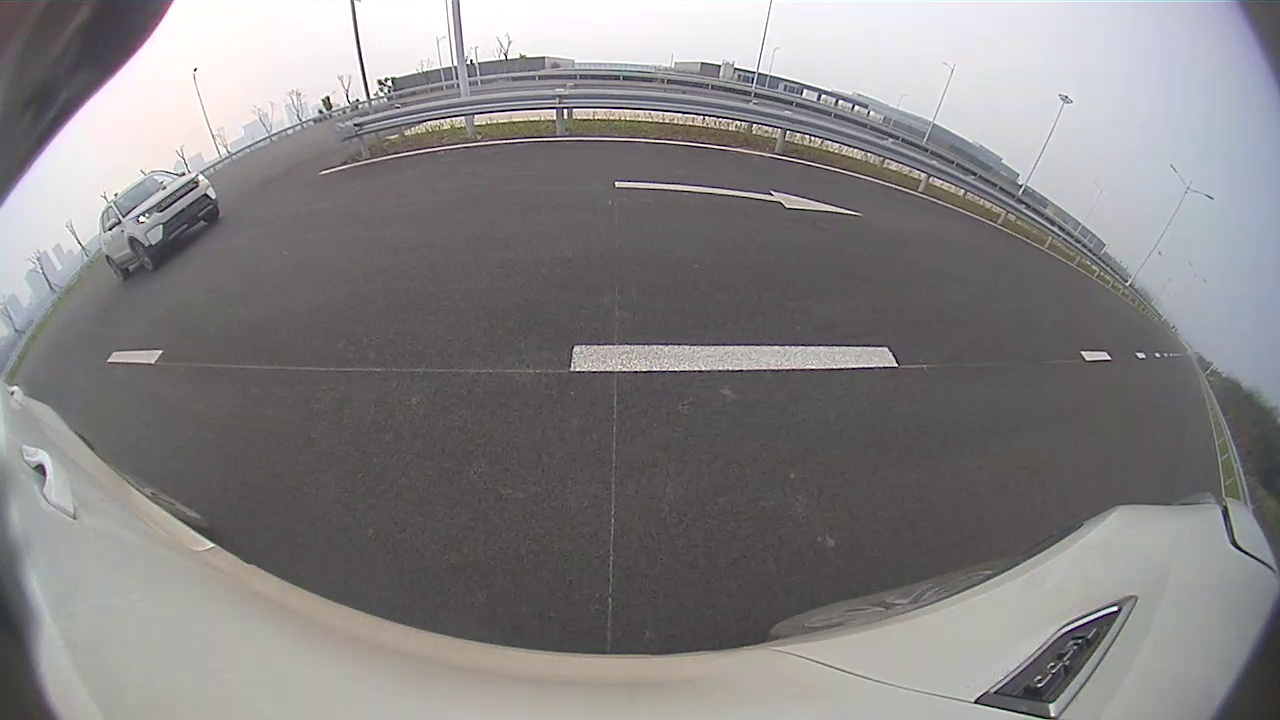car: (99, 170, 219, 282)
front: (128, 239, 157, 276)
